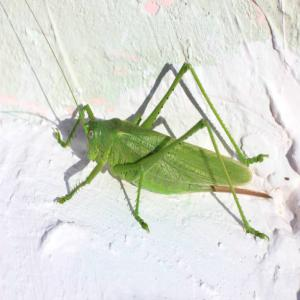locust: (50, 48, 275, 248)
